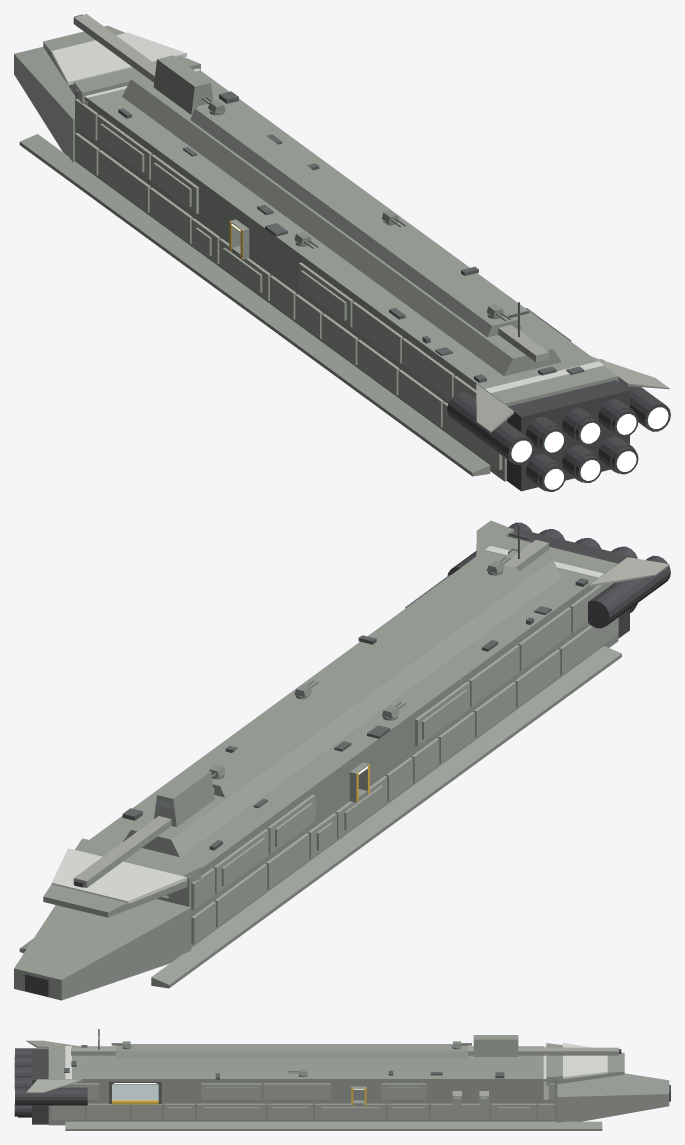
The model's file is ship_SMALL_DROP_FRIGATE_v2.glb.
3 views of the same model, one above another, from view 1: azimuth 30°, elevation 25°; view 2: azimuth 150°, elevation 25°; view 3: azimuth 270°, elevation 25° (orthographic). The views are drawn at different scales.
Visible parts, largest first — view 1: SMALL_DROP_FRIGATE_Hull-col, SMALL_DROP_FRIGATE_Armor, SMALL_DROP_FRIGATE_Engines, SMALL_DROP_FRIGATE_Accent, SMALL_DROP_FRIGATE_EngineGlow, SMALL_DROP_FRIGATE_Details; view 2: SMALL_DROP_FRIGATE_Hull-col, SMALL_DROP_FRIGATE_Armor, SMALL_DROP_FRIGATE_Engines, SMALL_DROP_FRIGATE_Accent, SMALL_DROP_FRIGATE_Details; view 3: SMALL_DROP_FRIGATE_Hull-col, SMALL_DROP_FRIGATE_Armor, SMALL_DROP_FRIGATE_Engines, SMALL_DROP_FRIGATE_Accent, SMALL_DROP_FRIGATE_CargoBayDoor-col, SMALL_DROP_FRIGATE_CargoBayShield, SMALL_DROP_FRIGATE_Trim, SMALL_DROP_FRIGATE_Hazard, SMALL_DROP_FRIGATE_Details.
Part boxes in pixels (box(x1,y1,x2,y2)): SMALL_DROP_FRIGATE_Hull-col: box(14, 25, 618, 481); SMALL_DROP_FRIGATE_Armor: box(73, 14, 669, 470); SMALL_DROP_FRIGATE_Engines: box(74, 14, 670, 491); SMALL_DROP_FRIGATE_Accent: box(51, 32, 603, 393); SMALL_DROP_FRIGATE_EngineGlow: box(511, 407, 668, 489); SMALL_DROP_FRIGATE_Details: box(118, 91, 584, 382); SMALL_DROP_FRIGATE_Hull-col: box(14, 536, 621, 1000); SMALL_DROP_FRIGATE_Armor: box(73, 520, 669, 943); SMALL_DROP_FRIGATE_Engines: box(25, 522, 670, 996); SMALL_DROP_FRIGATE_Accent: box(51, 546, 603, 903); SMALL_DROP_FRIGATE_Details: box(122, 524, 588, 850); SMALL_DROP_FRIGATE_Hull-col: box(48, 1035, 669, 1130); SMALL_DROP_FRIGATE_Armor: box(26, 1040, 618, 1119); SMALL_DROP_FRIGATE_Engines: box(14, 1048, 670, 1124); SMALL_DROP_FRIGATE_Accent: box(65, 1043, 607, 1099); SMALL_DROP_FRIGATE_CargoBayDoor-col: box(112, 1084, 158, 1099); SMALL_DROP_FRIGATE_CargoBayShield: box(112, 1084, 158, 1099); SMALL_DROP_FRIGATE_Trim: box(109, 1080, 161, 1103); SMALL_DROP_FRIGATE_Hazard: box(112, 1088, 366, 1105); SMALL_DROP_FRIGATE_Details: box(64, 1029, 504, 1079).
Bounding box in the file's own units: 21.9 × 17.4 × 118.
